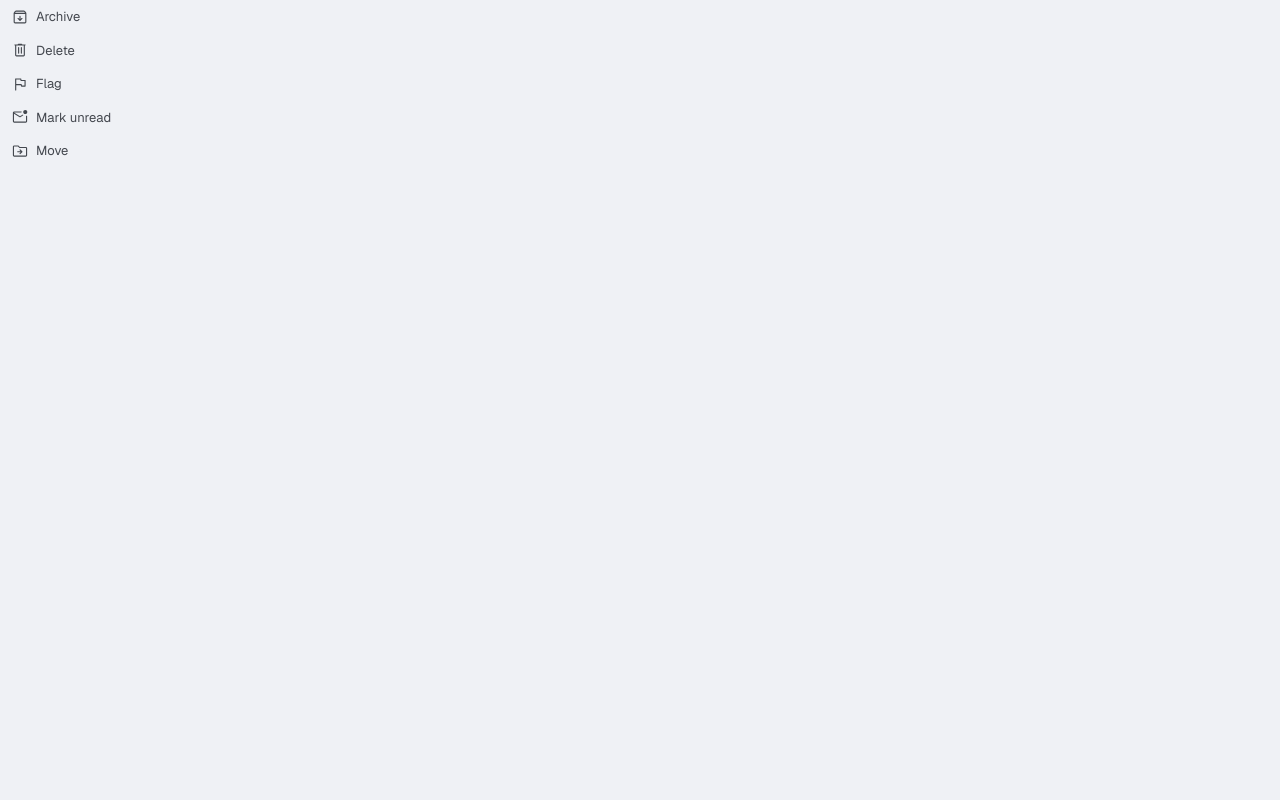
Test: MailboxActControls › offers the folders the messages could go to, asked of the messages rather than of the mailbox
The image size is (1280, 800).
Click the button "Move" at x=40, y=151, box [0,134,79,168]
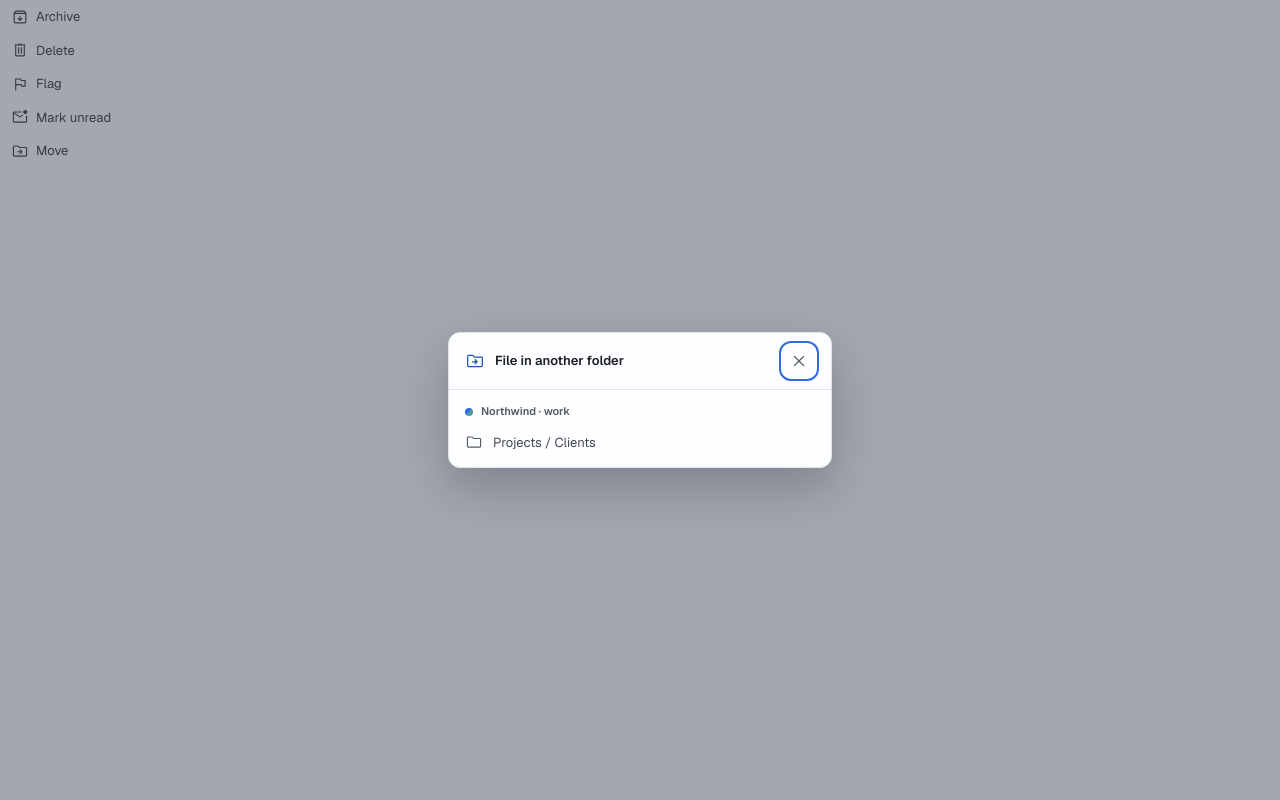
expect the button "Projects / Clients" is shown: met, box [449,424,831,461]
